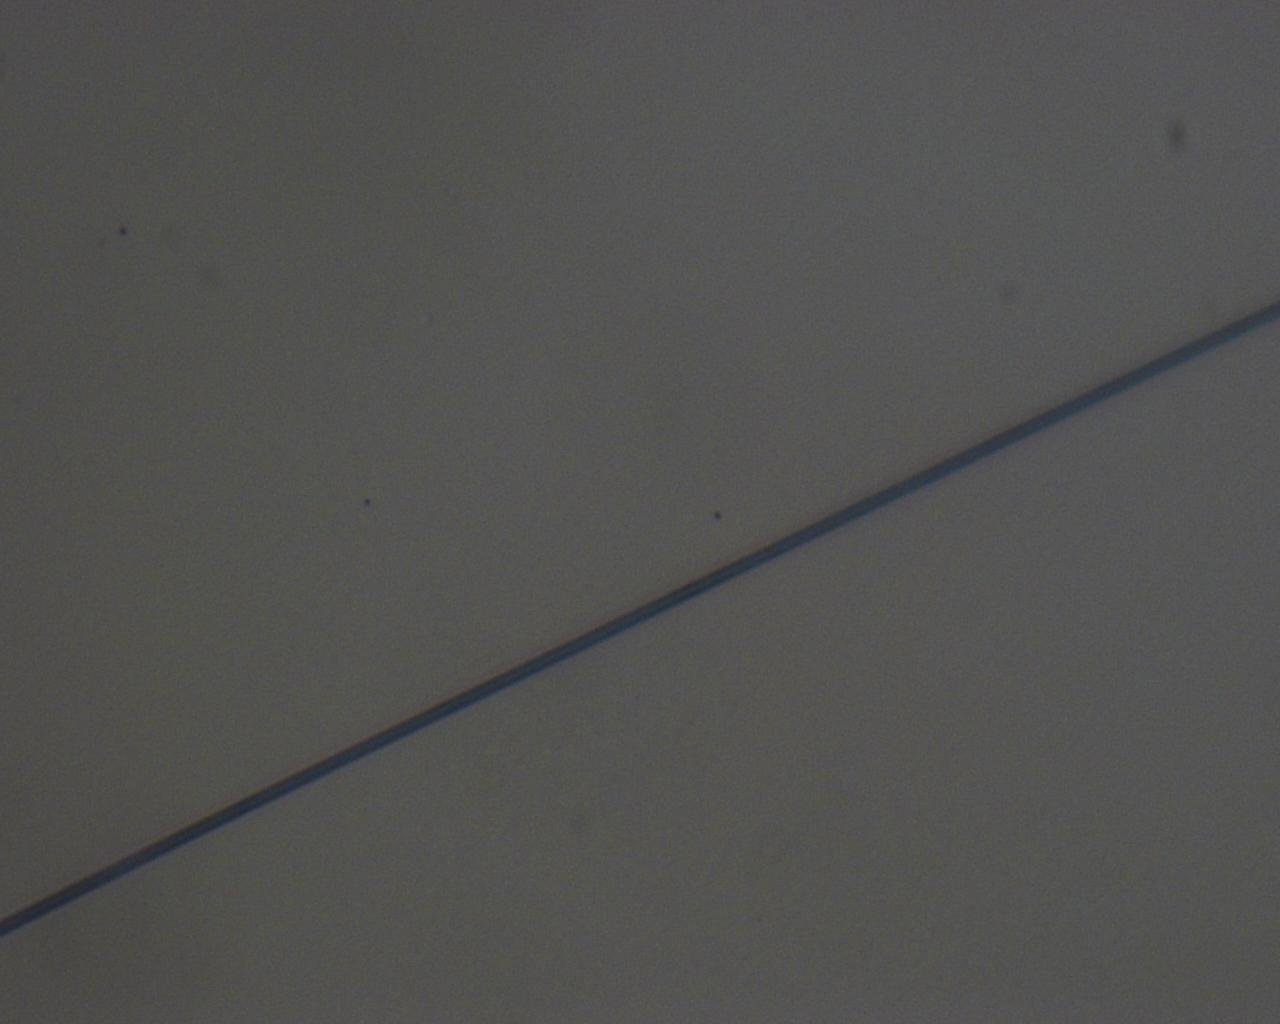fiber: (127, 352, 1151, 522)
